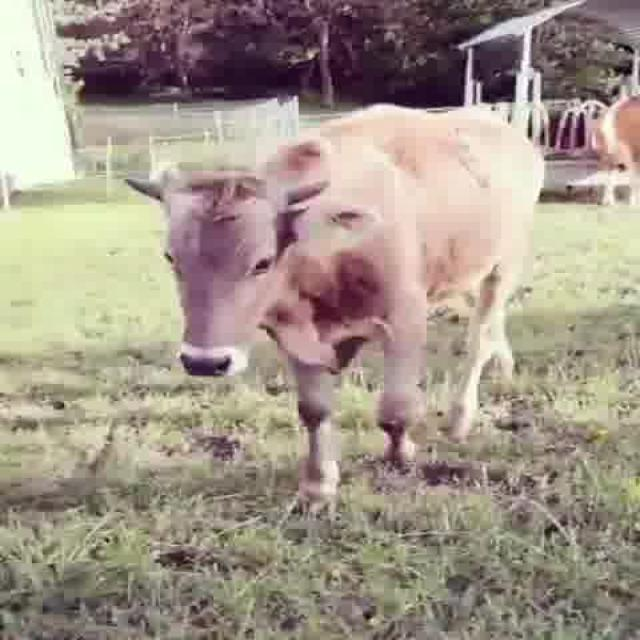cowFace: (116, 169, 332, 385)
